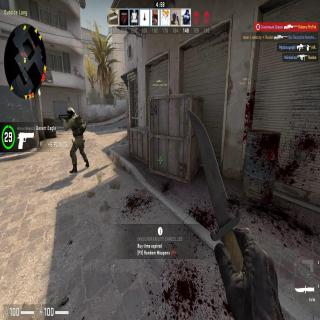CT-Body: (61, 106, 91, 172)
CT-Head: (63, 108, 75, 116)
